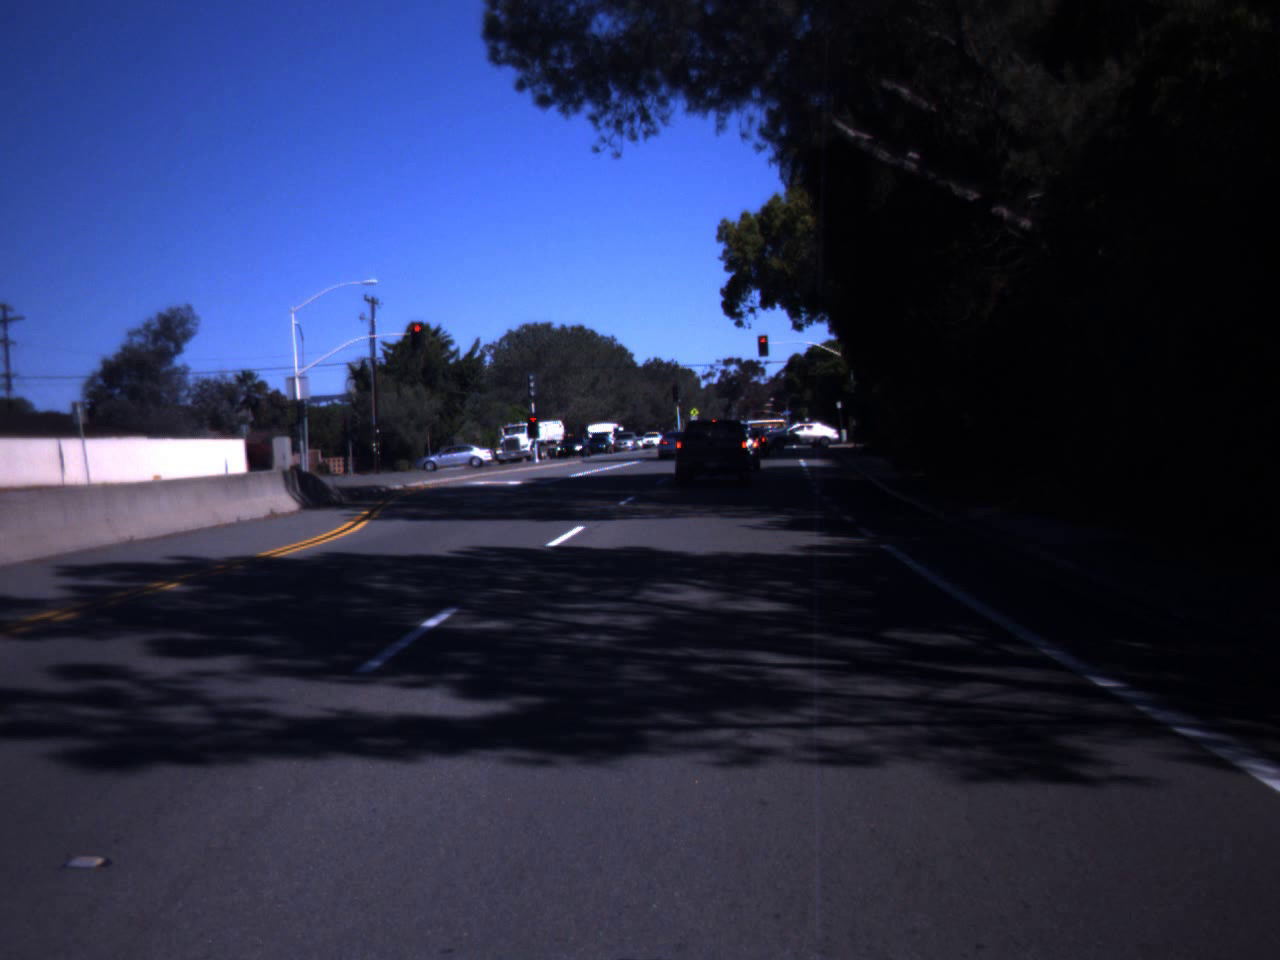stop: (410, 323, 425, 345), (526, 416, 541, 434), (756, 336, 768, 354)
